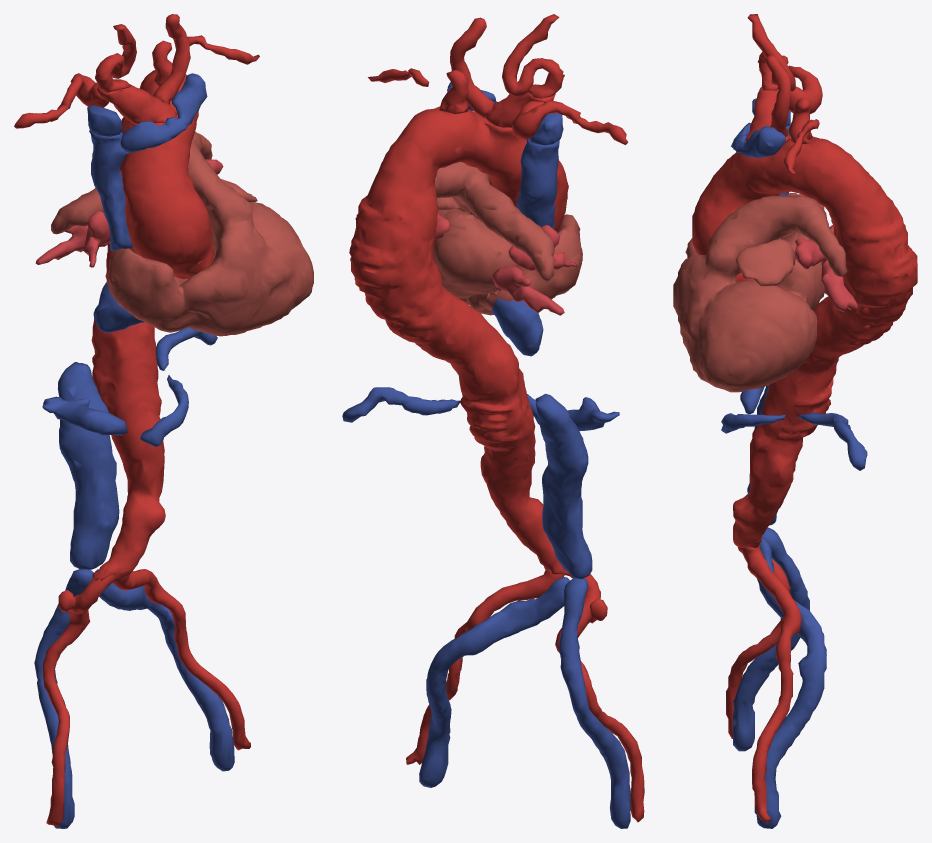
The model's file is tsd_s0196_older_adult_female.cardiovascular.LOD2.glb.
3 renders of one model, left to right at view 1: azimuth 30°, elevation 25°; view 2: azimuth 150°, elevation 25°; view 3: azimuth 270°, elevation 25°, orthographic. The views are drawn at different scales.
Parts seen in each view (by area): view 1: TSD_S0196.OLDER_ADULT.FEMALE.CARDIOVASCULAR.AORTA, TSD_S0196.OLDER_ADULT.FEMALE.CARDIOVASCULAR.HEART_ALL_CHAMBE, TSD_S0196.OLDER_ADULT.FEMALE.CARDIOVASCULAR.INFERIOR_VENA_CA, TSD_S0196.OLDER_ADULT.FEMALE.CARDIOVASCULAR.BRACHIOCEPHALIC_ (×3), TSD_S0196.OLDER_ADULT.FEMALE.CARDIOVASCULAR.ILIAC_ARTERY.R, TSD_S0196.OLDER_ADULT.FEMALE.CARDIOVASCULAR.PORTAL_VEIN_AND_, TSD_S0196.OLDER_ADULT.FEMALE.CARDIOVASCULAR.ILIAC_VEIN.L, TSD_S0196.OLDER_ADULT.FEMALE.CARDIOVASCULAR.ILIAC_ARTERY.L, TSD_S0196.OLDER_ADULT.FEMALE.CARDIOVASCULAR.COMMON_CAROTID_A (×2), TSD_S0196.OLDER_ADULT.FEMALE.CARDIOVASCULAR.SUPERIOR_VENA_CA, TSD_S0196.OLDER_ADULT.FEMALE.CARDIOVASCULAR.SUBCLAVIAN_ARTER (×2), TSD_S0196.OLDER_ADULT.FEMALE.CARDIOVASCULAR.ILIAC_VEIN.R (+1 smaller); view 2: TSD_S0196.OLDER_ADULT.FEMALE.CARDIOVASCULAR.AORTA, TSD_S0196.OLDER_ADULT.FEMALE.CARDIOVASCULAR.HEART_ALL_CHAMBE, TSD_S0196.OLDER_ADULT.FEMALE.CARDIOVASCULAR.INFERIOR_VENA_CA, TSD_S0196.OLDER_ADULT.FEMALE.CARDIOVASCULAR.ILIAC_VEIN.L, TSD_S0196.OLDER_ADULT.FEMALE.CARDIOVASCULAR.ILIAC_VEIN.R, TSD_S0196.OLDER_ADULT.FEMALE.CARDIOVASCULAR.COMMON_CAROTID_A (×2), TSD_S0196.OLDER_ADULT.FEMALE.CARDIOVASCULAR.SUBCLAVIAN_ARTER (×2), TSD_S0196.OLDER_ADULT.FEMALE.CARDIOVASCULAR.ILIAC_ARTERY.R, TSD_S0196.OLDER_ADULT.FEMALE.CARDIOVASCULAR.SUPERIOR_VENA_CA, TSD_S0196.OLDER_ADULT.FEMALE.CARDIOVASCULAR.PORTAL_VEIN_AND_, TSD_S0196.OLDER_ADULT.FEMALE.CARDIOVASCULAR.ILIAC_ARTERY.L, TSD_S0196.OLDER_ADULT.FEMALE.CARDIOVASCULAR.PULMONARY_VEINS_ (+1 smaller); view 3: TSD_S0196.OLDER_ADULT.FEMALE.CARDIOVASCULAR.AORTA, TSD_S0196.OLDER_ADULT.FEMALE.CARDIOVASCULAR.HEART_ALL_CHAMBE, TSD_S0196.OLDER_ADULT.FEMALE.CARDIOVASCULAR.ILIAC_VEIN.L, TSD_S0196.OLDER_ADULT.FEMALE.CARDIOVASCULAR.ILIAC_ARTERY.L, TSD_S0196.OLDER_ADULT.FEMALE.CARDIOVASCULAR.ILIAC_VEIN.R, TSD_S0196.OLDER_ADULT.FEMALE.CARDIOVASCULAR.PORTAL_VEIN_AND_, TSD_S0196.OLDER_ADULT.FEMALE.CARDIOVASCULAR.COMMON_CAROTID_A (×2), TSD_S0196.OLDER_ADULT.FEMALE.CARDIOVASCULAR.SUBCLAVIAN_ARTER (×2), TSD_S0196.OLDER_ADULT.FEMALE.CARDIOVASCULAR.BRACHIOCEPHALIC_ (×2), TSD_S0196.OLDER_ADULT.FEMALE.CARDIOVASCULAR.LEFT_ATRIAL_APPE, TSD_S0196.OLDER_ADULT.FEMALE.CARDIOVASCULAR.PULMONARY_VEINS_, TSD_S0196.OLDER_ADULT.FEMALE.CARDIOVASCULAR.ILIAC_ARTERY.R.
Boxes of the visible parts, <box> form: TSD_S0196.OLDER_ADULT.FEMALE.CARDIOVASCULAR.AORTA: <box>91,70,214,580</box>; TSD_S0196.OLDER_ADULT.FEMALE.CARDIOVASCULAR.HEART_ALL_CHAMBE: <box>51,131,313,336</box>; TSD_S0196.OLDER_ADULT.FEMALE.CARDIOVASCULAR.INFERIOR_VENA_CA: <box>57,282,144,569</box>; TSD_S0196.OLDER_ADULT.FEMALE.CARDIOVASCULAR.BRACHIOCEPHALIC_ (×3): <box>87,73,207,153</box>; TSD_S0196.OLDER_ADULT.FEMALE.CARDIOVASCULAR.ILIAC_ARTERY.R: <box>42,564,115,826</box>; TSD_S0196.OLDER_ADULT.FEMALE.CARDIOVASCULAR.PORTAL_VEIN_AND_: <box>42,327,217,447</box>; TSD_S0196.OLDER_ADULT.FEMALE.CARDIOVASCULAR.ILIAC_VEIN.L: <box>95,569,234,771</box>; TSD_S0196.OLDER_ADULT.FEMALE.CARDIOVASCULAR.ILIAC_ARTERY.L: <box>112,569,250,750</box>; TSD_S0196.OLDER_ADULT.FEMALE.CARDIOVASCULAR.COMMON_CAROTID_A (×2): <box>95,14,190,104</box>; TSD_S0196.OLDER_ADULT.FEMALE.CARDIOVASCULAR.SUPERIOR_VENA_CA: <box>89,130,132,251</box>; TSD_S0196.OLDER_ADULT.FEMALE.CARDIOVASCULAR.SUBCLAVIAN_ARTER (×2): <box>14,35,259,128</box>; TSD_S0196.OLDER_ADULT.FEMALE.CARDIOVASCULAR.ILIAC_VEIN.R: <box>34,569,93,828</box>; TSD_S0196.OLDER_ADULT.FEMALE.CARDIOVASCULAR.AORTA: <box>349,106,571,576</box>; TSD_S0196.OLDER_ADULT.FEMALE.CARDIOVASCULAR.HEART_ALL_CHAMBE: <box>433,162,582,315</box>; TSD_S0196.OLDER_ADULT.FEMALE.CARDIOVASCULAR.INFERIOR_VENA_CA: <box>491,299,592,579</box>; TSD_S0196.OLDER_ADULT.FEMALE.CARDIOVASCULAR.ILIAC_VEIN.L: <box>419,577,569,787</box>; TSD_S0196.OLDER_ADULT.FEMALE.CARDIOVASCULAR.ILIAC_VEIN.R: <box>559,578,630,828</box>; TSD_S0196.OLDER_ADULT.FEMALE.CARDIOVASCULAR.COMMON_CAROTID_A (×2): <box>450,14,564,117</box>; TSD_S0196.OLDER_ADULT.FEMALE.CARDIOVASCULAR.SUBCLAVIAN_ARTER (×2): <box>368,68,628,144</box>; TSD_S0196.OLDER_ADULT.FEMALE.CARDIOVASCULAR.ILIAC_ARTERY.R: <box>555,574,644,822</box>; TSD_S0196.OLDER_ADULT.FEMALE.CARDIOVASCULAR.SUPERIOR_VENA_CA: <box>516,138,559,228</box>; TSD_S0196.OLDER_ADULT.FEMALE.CARDIOVASCULAR.PORTAL_VEIN_AND_: <box>342,387,619,431</box>; TSD_S0196.OLDER_ADULT.FEMALE.CARDIOVASCULAR.ILIAC_ARTERY.L: <box>406,569,564,764</box>; TSD_S0196.OLDER_ADULT.FEMALE.CARDIOVASCULAR.PULMONARY_VEINS_: <box>435,212,576,315</box>; TSD_S0196.OLDER_ADULT.FEMALE.CARDIOVASCULAR.AORTA: <box>692,134,917,547</box>; TSD_S0196.OLDER_ADULT.FEMALE.CARDIOVASCULAR.HEART_ALL_CHAMBE: <box>673,193,847,392</box>; TSD_S0196.OLDER_ADULT.FEMALE.CARDIOVASCULAR.ILIAC_VEIN.L: <box>754,538,826,828</box>; TSD_S0196.OLDER_ADULT.FEMALE.CARDIOVASCULAR.ILIAC_ARTERY.L: <box>738,544,801,822</box>; TSD_S0196.OLDER_ADULT.FEMALE.CARDIOVASCULAR.ILIAC_VEIN.R: <box>733,527,809,751</box>; TSD_S0196.OLDER_ADULT.FEMALE.CARDIOVASCULAR.PORTAL_VEIN_AND_: <box>721,386,867,470</box>; TSD_S0196.OLDER_ADULT.FEMALE.CARDIOVASCULAR.COMMON_CAROTID_A (×2): <box>747,14,795,136</box>; TSD_S0196.OLDER_ADULT.FEMALE.CARDIOVASCULAR.SUBCLAVIAN_ARTER (×2): <box>782,55,822,175</box>; TSD_S0196.OLDER_ADULT.FEMALE.CARDIOVASCULAR.BRACHIOCEPHALIC_ (×2): <box>731,87,788,158</box>; TSD_S0196.OLDER_ADULT.FEMALE.CARDIOVASCULAR.LEFT_ATRIAL_APPE: <box>735,239,795,286</box>; TSD_S0196.OLDER_ADULT.FEMALE.CARDIOVASCULAR.PULMONARY_VEINS_: <box>780,225,858,311</box>; TSD_S0196.OLDER_ADULT.FEMALE.CARDIOVASCULAR.ILIAC_ARTERY.R: <box>726,547,790,738</box>.
Size of the model in its own units: 0.1903 by 0.528 by 0.1532.
